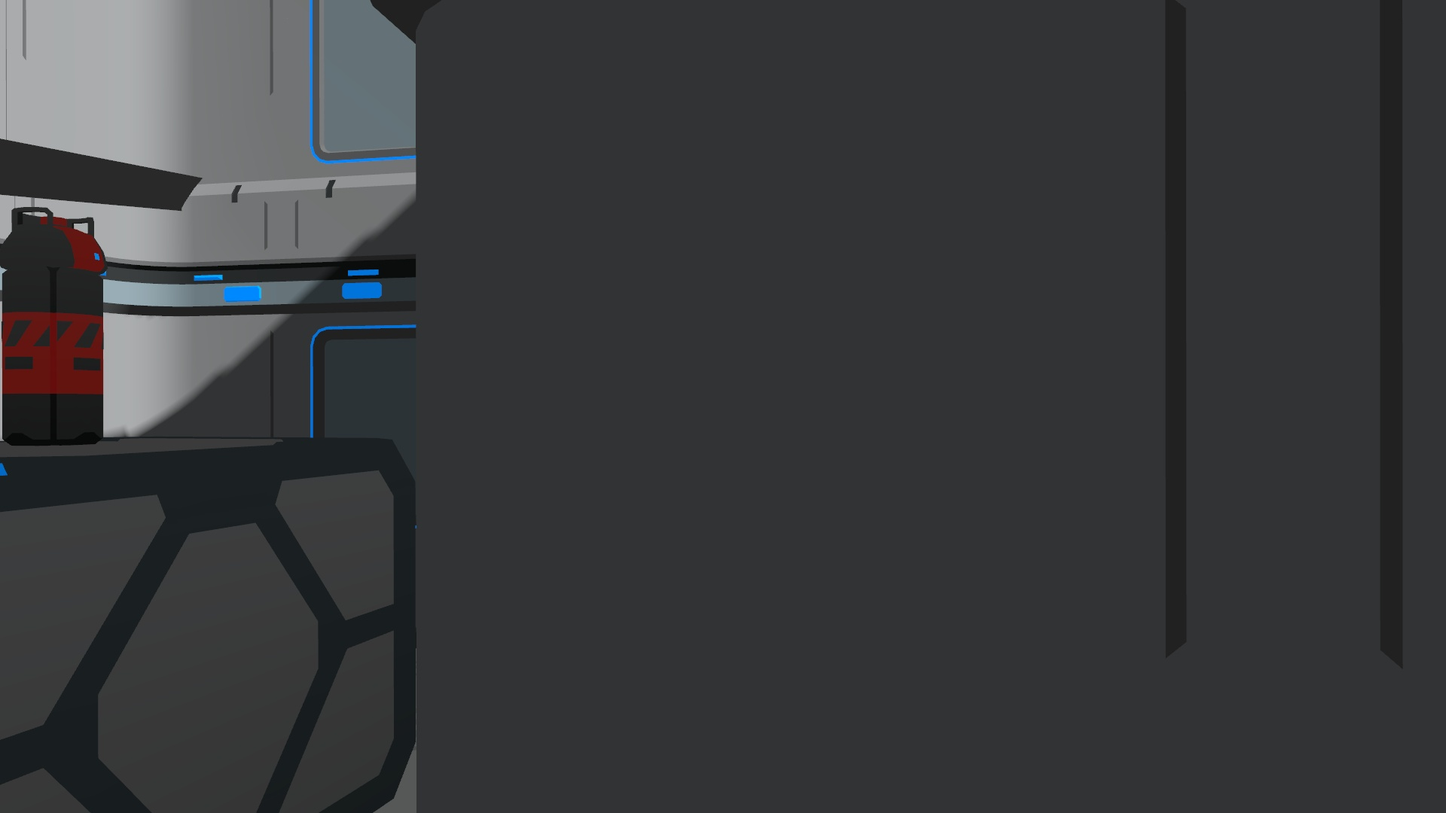red_barrel: (0, 206, 107, 449)
